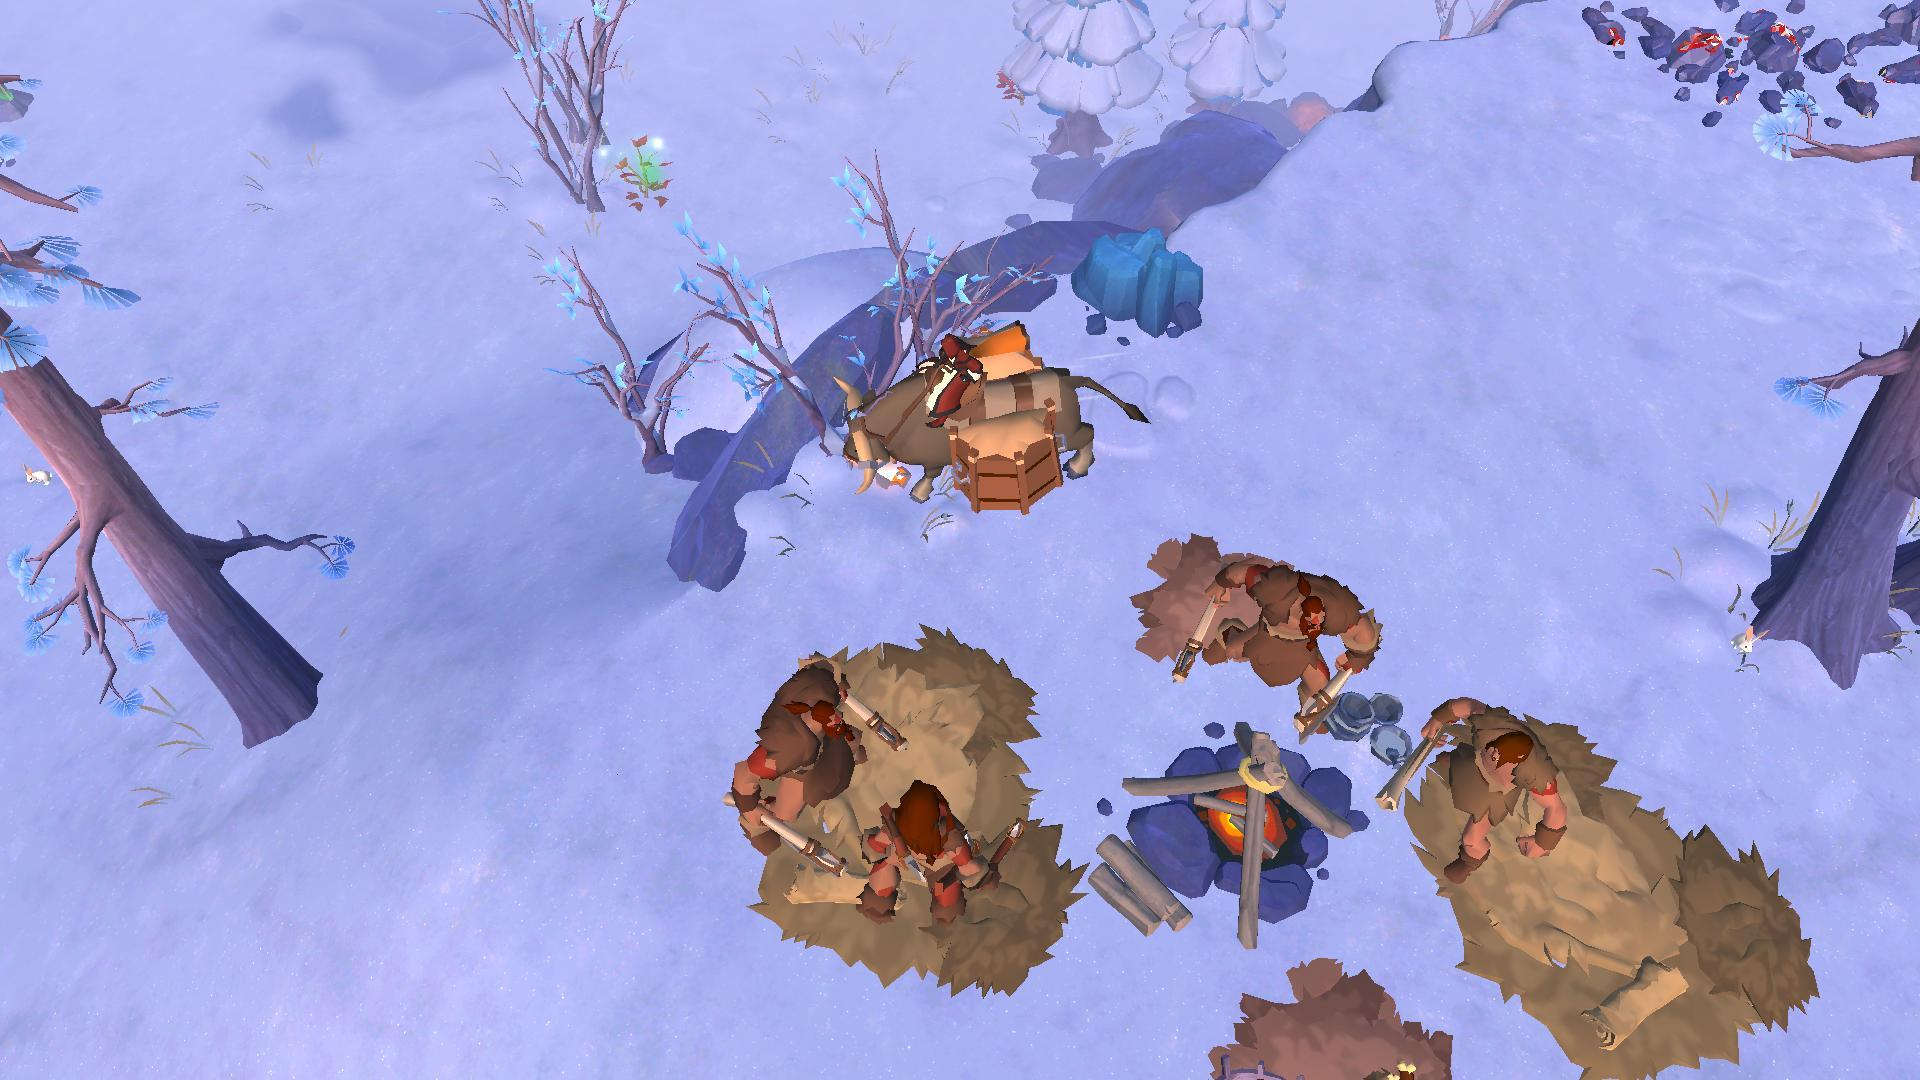enemy_factionKeeper: (1174, 546, 1377, 724), (1396, 688, 1567, 894), (733, 657, 887, 857), (862, 787, 986, 945)
rock_t4: (1075, 236, 1208, 340)
